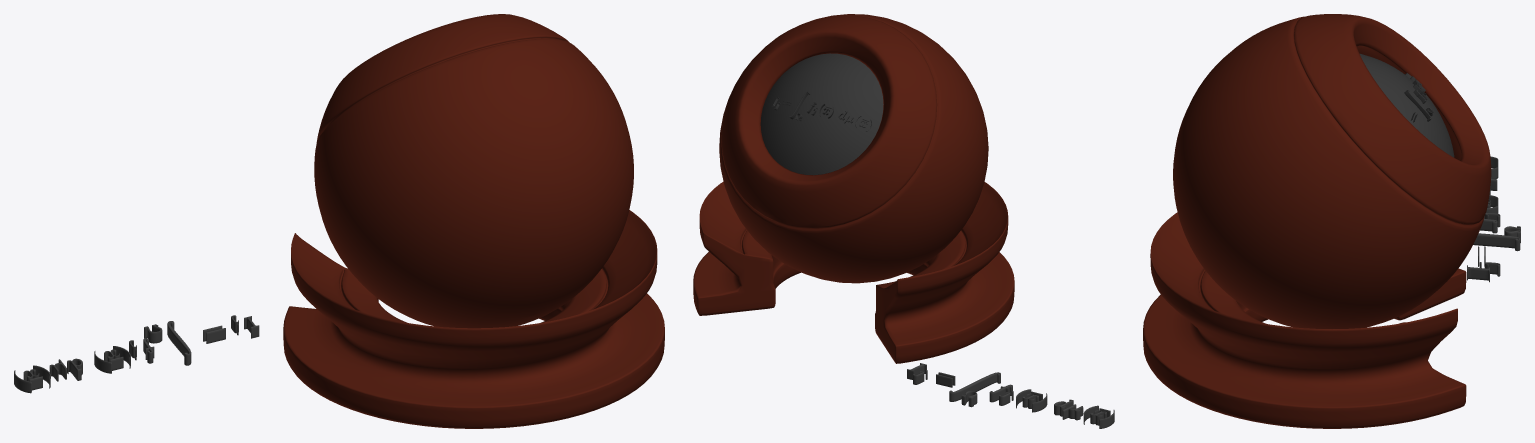
File: knob2.obj
3 renders of one model, left to right at view 1: azimuth 30°, elevation 25°; view 2: azimuth 150°, elevation 25°; view 3: azimuth 270°, elevation 25°, orthographic. The views are drawn at different scales.
Visible parts, largest first — view 1: Knob.001, Knob; view 2: Knob.001, Knob.002, Knob; view 3: Knob.001, Knob.002, Knob.
Part boxes in pixels (bbox=[...]): Knob.001: bbox=[283, 14, 664, 428]; Knob: bbox=[14, 315, 259, 393]; Knob.001: bbox=[693, 14, 1014, 363]; Knob.002: bbox=[760, 53, 883, 175]; Knob: bbox=[771, 91, 1114, 428]; Knob.001: bbox=[1143, 14, 1491, 428]; Knob.002: bbox=[1360, 53, 1454, 157]; Knob: bbox=[1402, 72, 1520, 282].
Size of what is drawn, in the model's own units: 1.79 by 1.02 by 1.08.
